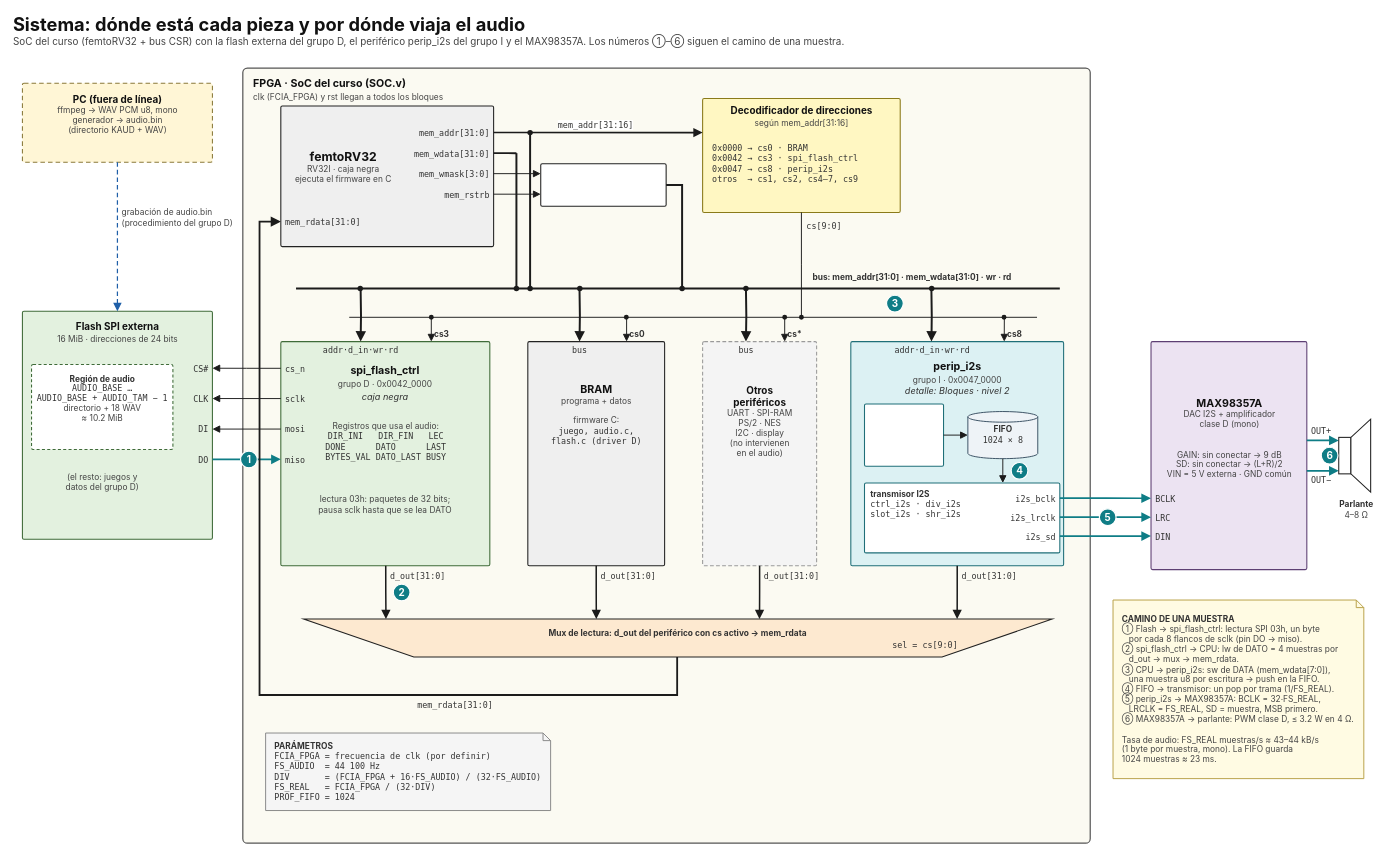
The diagram is 1386 pixels wide and 857 high, and some of its shapes have lost their labels. The shapes that lost their labels are listed below. From the top down, each one's centre as x and y in pixels, then its label:
At point 603,184: "wr = |mem_wmask rd = mem_rstrb".
At point 904,434: "CSR CONTROL STATUS DATA CLKDIV".
